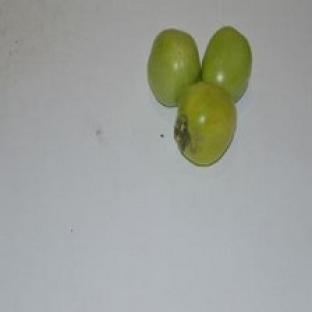Tomato: (175, 83, 236, 165), (148, 30, 200, 107), (202, 27, 252, 101)
